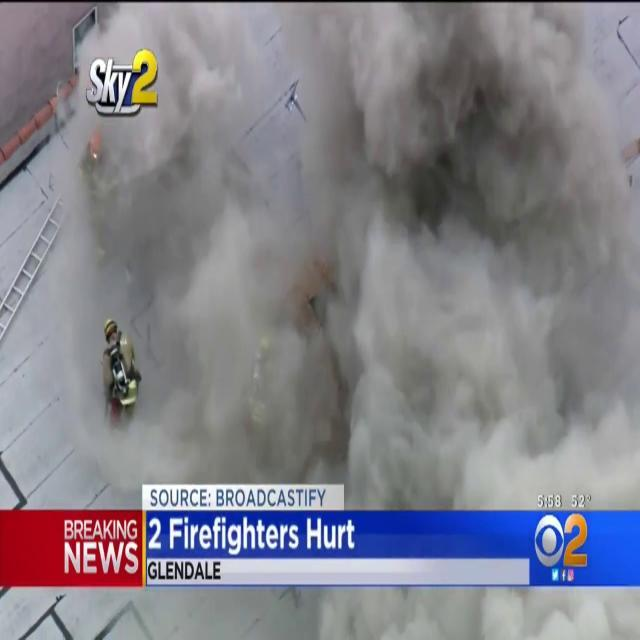Smoke: (29, 4, 634, 490)
